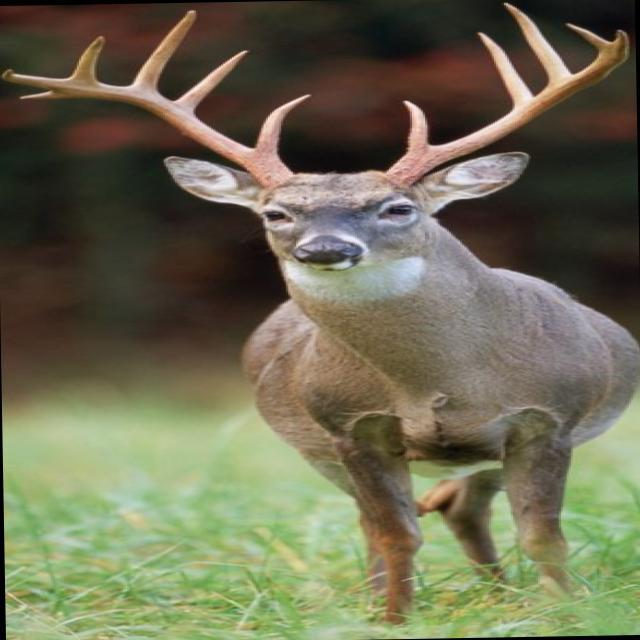E1: (18, 90, 86, 99)
L-F: (379, 28, 630, 188)
L-G1: (400, 99, 430, 153)
L-G2: (475, 31, 533, 106)
L-G3: (501, 2, 572, 84)
L-G4: (564, 22, 612, 53)
R-F: (0, 68, 297, 190)
R-G1: (255, 94, 312, 155)
R-G2: (175, 49, 249, 113)
R-G3: (130, 9, 197, 90)
R-G4: (67, 34, 105, 82)
